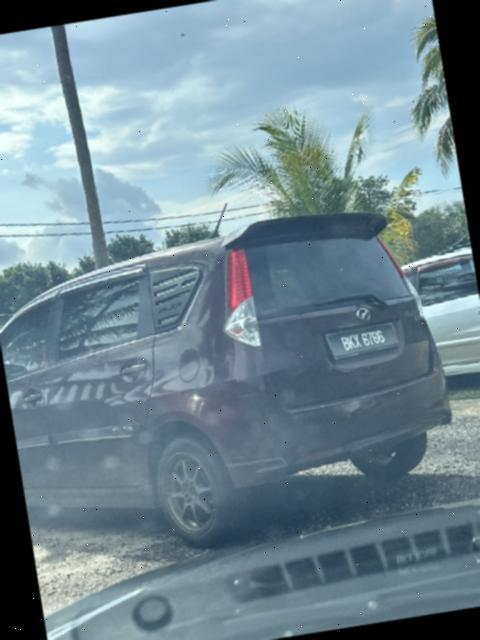BKX6766: (320, 315, 409, 368)
License_Plate: (320, 315, 409, 368)
car: (1, 183, 480, 579)
